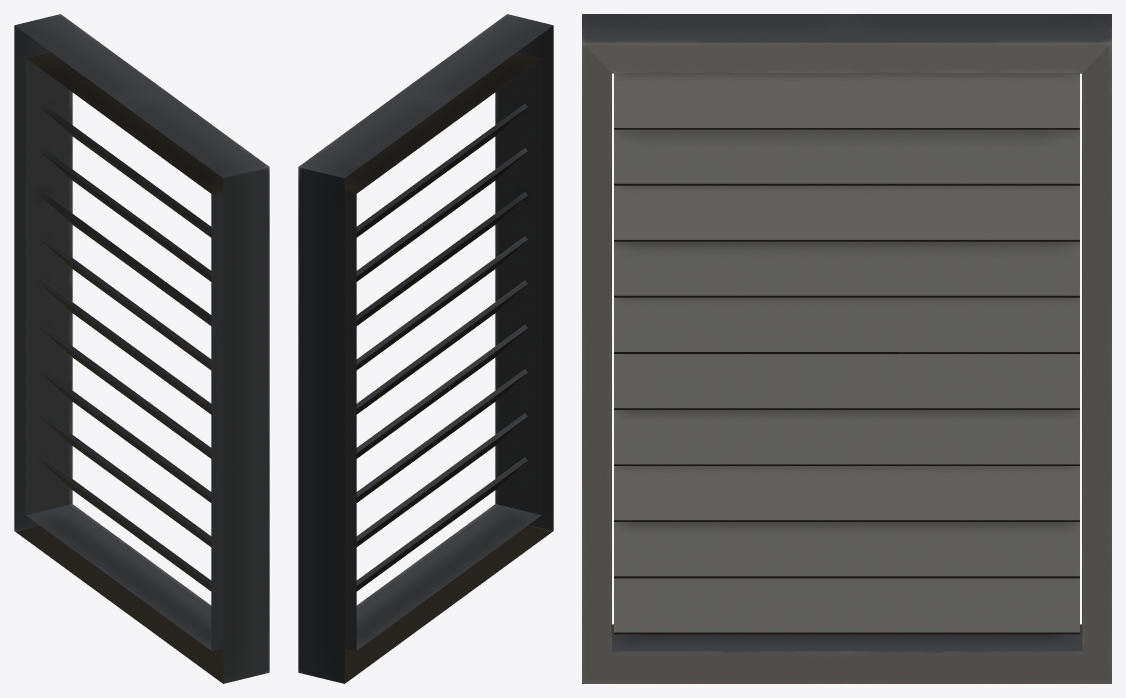
Rendered from Window_001.fbx.
3 renders of one model, left to right at view 1: azimuth 30°, elevation 25°; view 2: azimuth 150°, elevation 25°; view 3: azimuth 270°, elevation 25°, orthographic. The views are drawn at different scales.
Visible parts, largest first — view 1: Window_001; view 2: Window_001; view 3: Window_001.
Boxes of the visible parts, x1,y1,x2,y2 form: Window_001: (14, 14, 269, 683); Window_001: (298, 14, 553, 683); Window_001: (582, 14, 1111, 683).
Bounding box in the file's own units: 12.28 × 122 × 91.2.
Materials: 1 (1 with a texture image).
